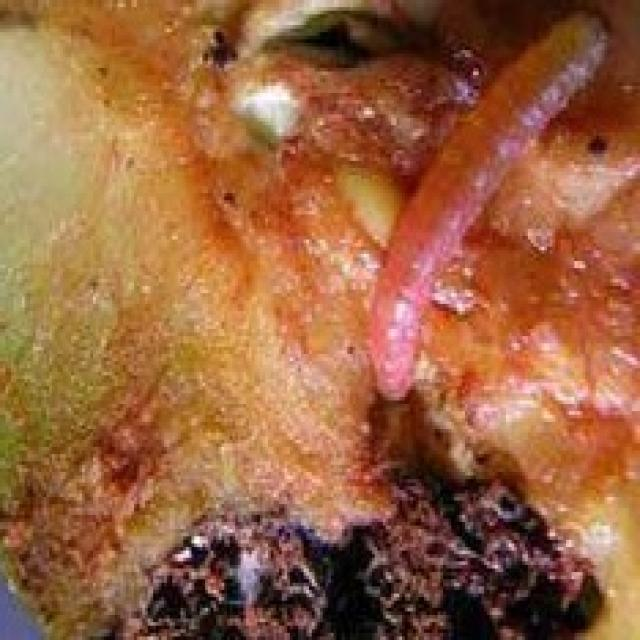peach borer: (357, 8, 619, 409)
